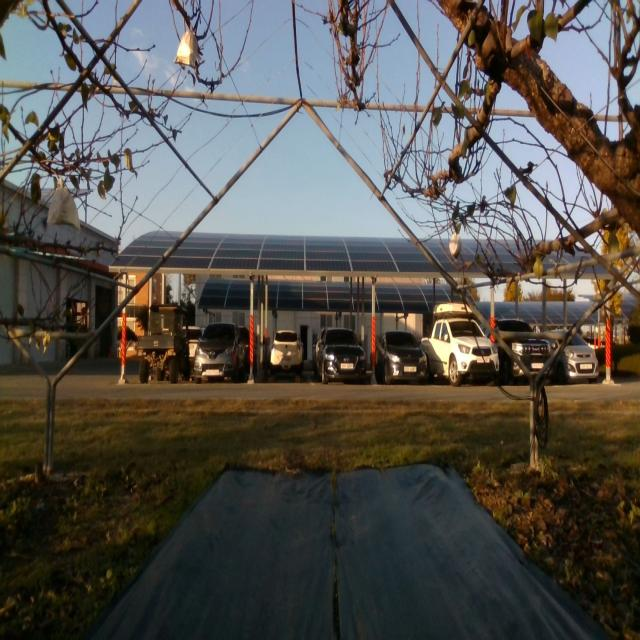pearbags: (46, 187, 80, 230), (174, 30, 198, 66), (449, 231, 462, 260)
